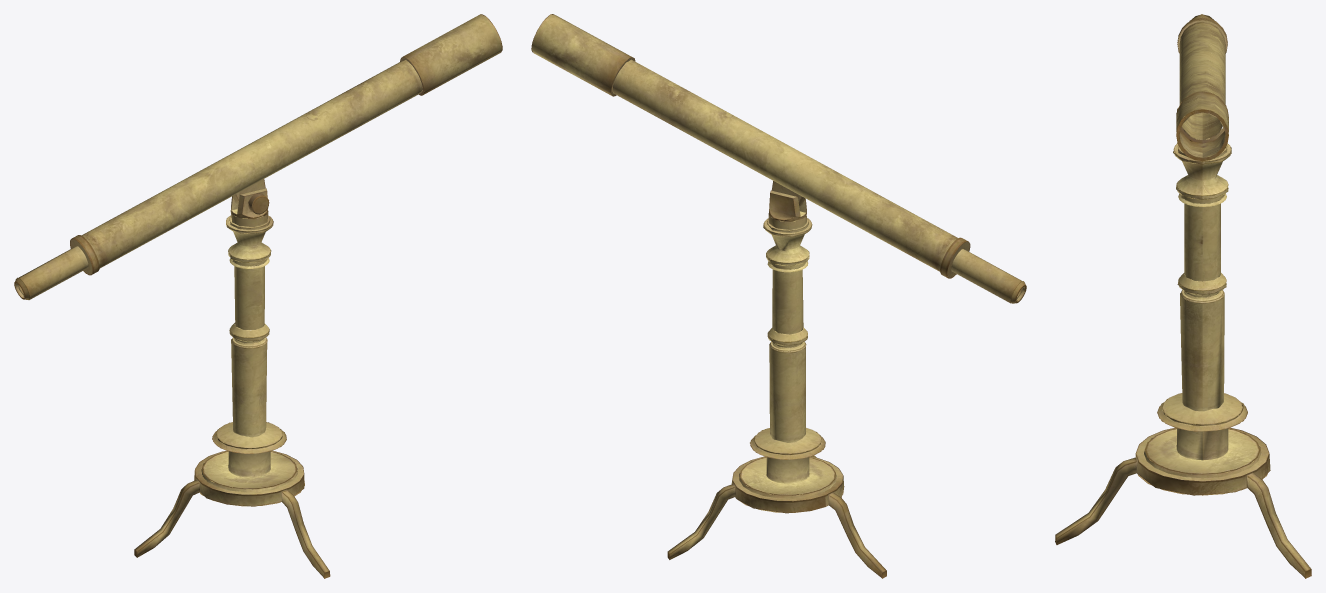
The model's file is telescope_stand.glb.
3 views of the same model, side by side, from view 1: azimuth 30°, elevation 25°; view 2: azimuth 150°, elevation 25°; view 3: azimuth 270°, elevation 25° (orthographic). The views are drawn at different scales.
Parts seen in each view (by area): view 1: SM_Telescope_blinn1_0; view 2: SM_Telescope_blinn1_0; view 3: SM_Telescope_blinn1_0.
Part boxes in pixels (bbox=[...]): SM_Telescope_blinn1_0: bbox=[14, 14, 502, 578]; SM_Telescope_blinn1_0: bbox=[531, 14, 1026, 578]; SM_Telescope_blinn1_0: bbox=[1055, 14, 1311, 578].
Size of the model in its own units: 1.5 by 1.39 by 0.5735.
Materials: 2 (2 with a texture image).
